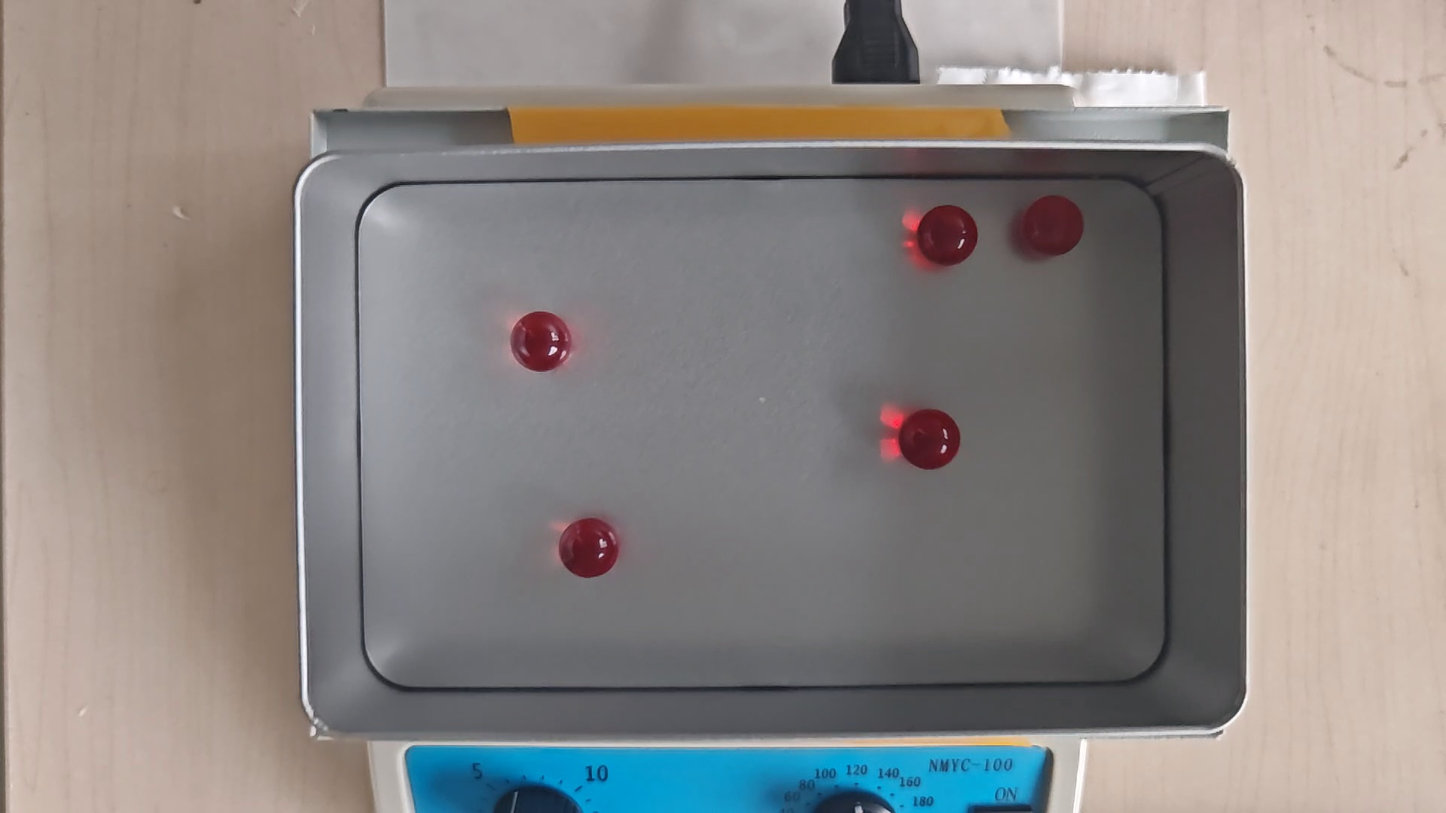ball: (560, 516, 621, 580), (901, 406, 961, 471), (510, 310, 571, 373), (1023, 193, 1083, 256), (920, 203, 977, 266)
container: (354, 175, 1167, 690)
